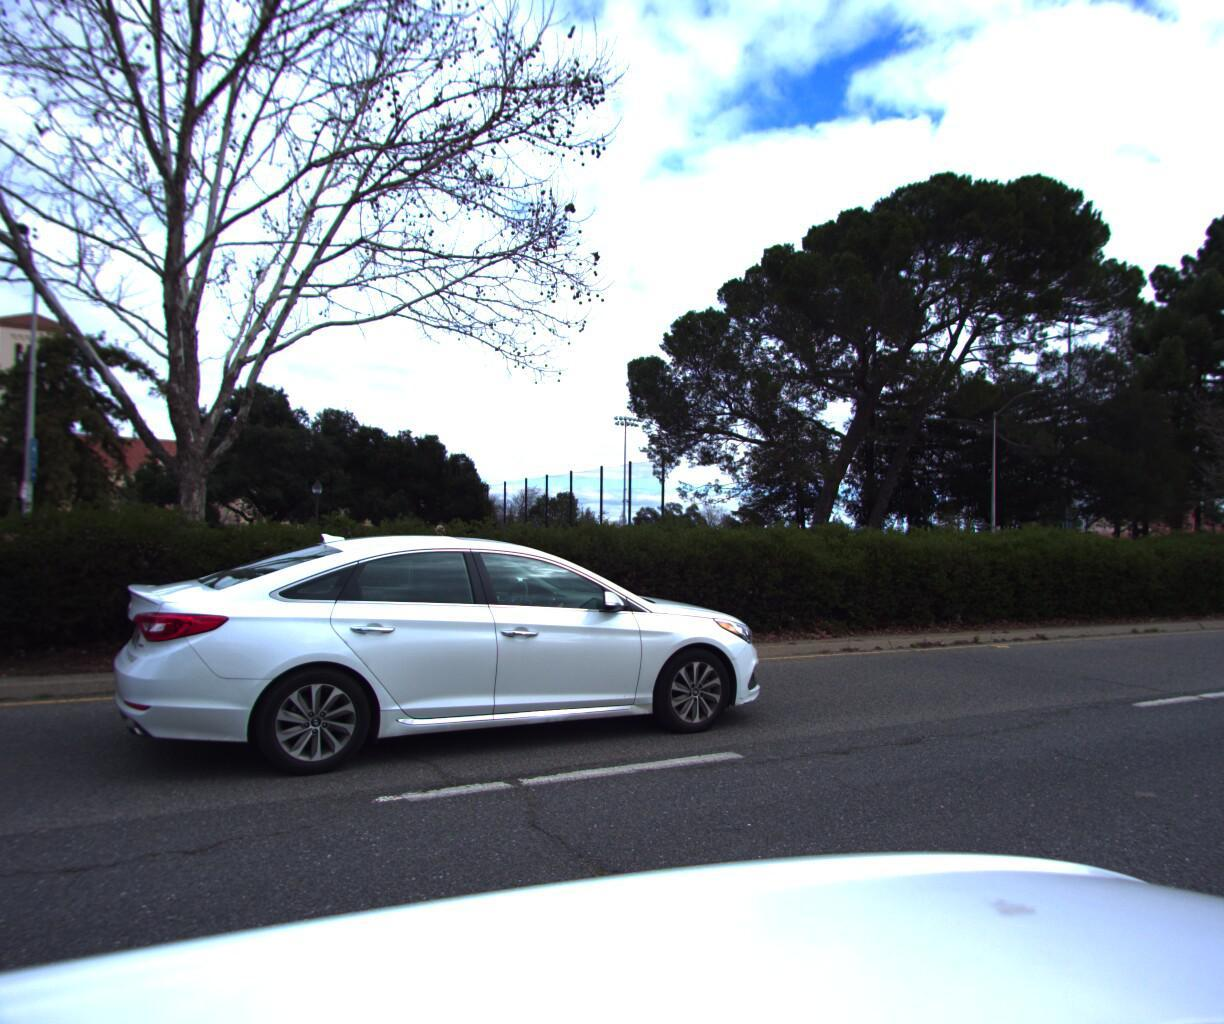car: (127, 518, 809, 803)
